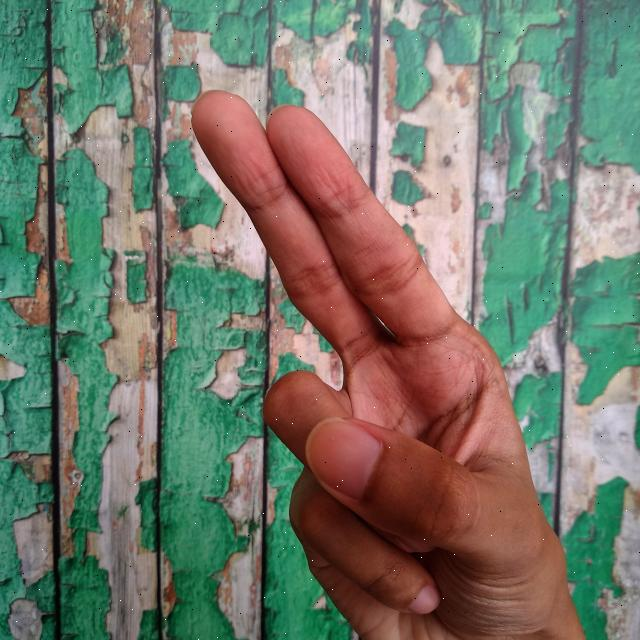U: (184, 80, 586, 640)
